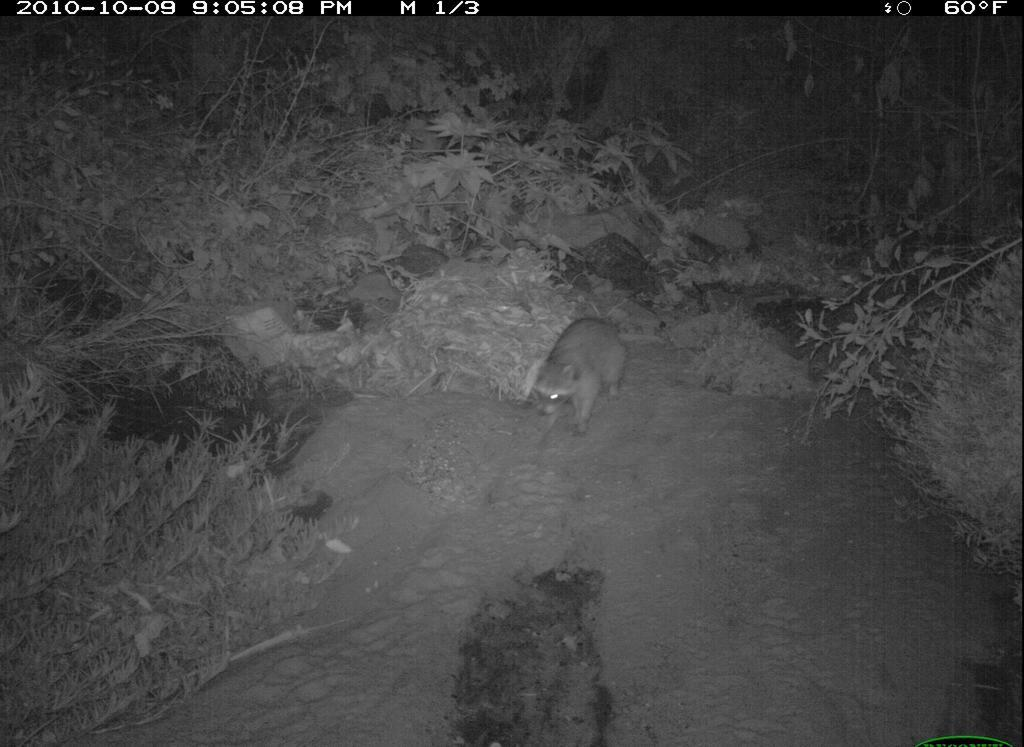raccoon: (520, 309, 678, 452)
